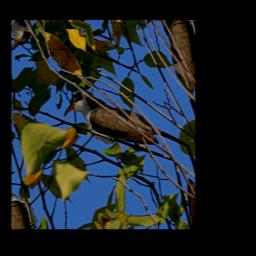Cuckoo: (49, 65, 164, 196)
